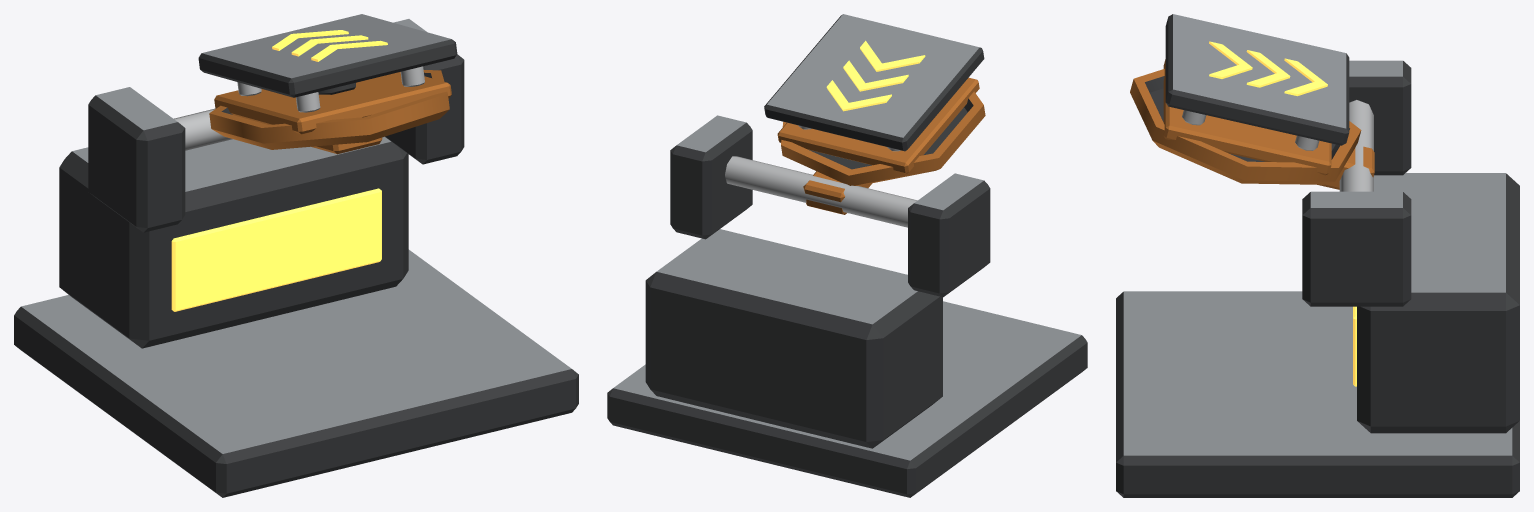
Rendered from R4X_KnockbackTrapDeployer_LOD1.fbx.
3 renders of one model, left to right at view 1: azimuth 30°, elevation 25°; view 2: azimuth 150°, elevation 25°; view 3: azimuth 270°, elevation 25°, orthographic. The views are drawn at different scales.
Parts seen in each view (by area): view 1: R4X_KnockbackTrapDeployer_LOD1; view 2: R4X_KnockbackTrapDeployer_LOD1; view 3: R4X_KnockbackTrapDeployer_LOD1.
Part boxes in pixels (left/top/right/bottom): R4X_KnockbackTrapDeployer_LOD1: left=14, top=14, right=578, bottom=497; R4X_KnockbackTrapDeployer_LOD1: left=607, top=14, right=1087, bottom=497; R4X_KnockbackTrapDeployer_LOD1: left=1116, top=14, right=1519, bottom=497.
Size of the model in its own units: 0.52 by 0.5172 by 0.52.
